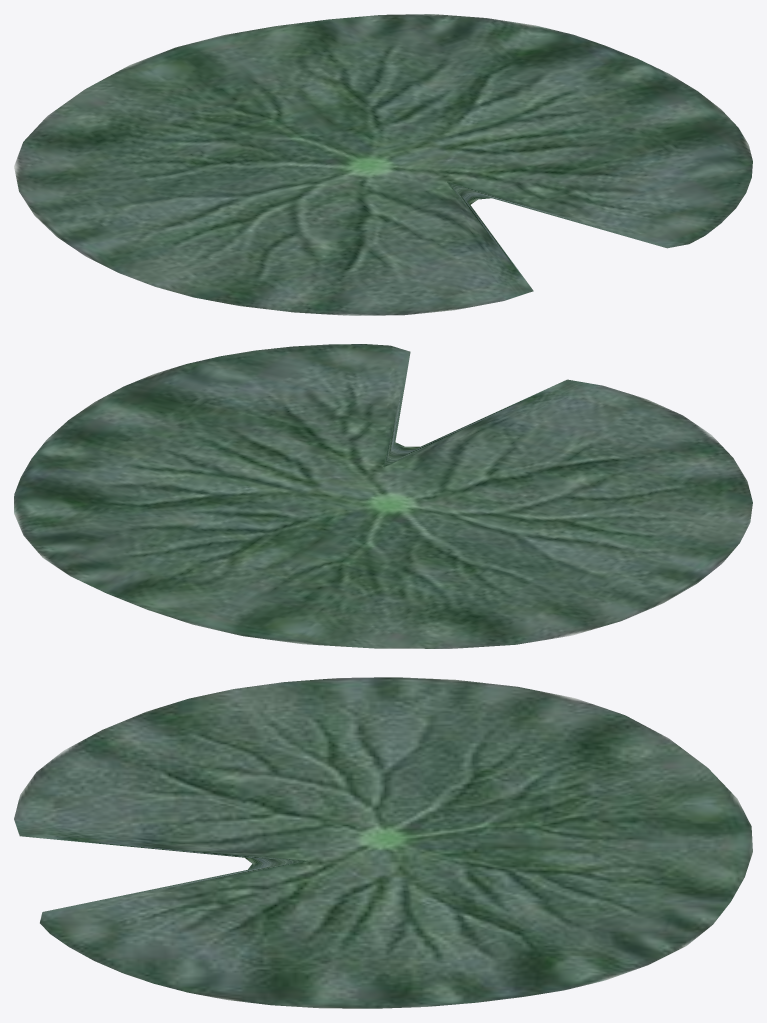
The model's file is VEG0410003.fbx.
3 renders of one model, top to bottom at view 1: azimuth 30°, elevation 25°; view 2: azimuth 150°, elevation 25°; view 3: azimuth 270°, elevation 25°, orthographic. The views are drawn at different scales.
Parts seen in each view (by area): view 1: smVEG0410003; view 2: smVEG0410003; view 3: smVEG0410003.
Part boxes in pixels (box(x1,y1,x2,y2)): smVEG0410003: box(14, 14, 752, 315); smVEG0410003: box(14, 344, 752, 648); smVEG0410003: box(14, 677, 752, 1008).
Bounding box in the file's own units: 43.08 × 5.01e-06 × 40.57.
1 material, 1 textured.
